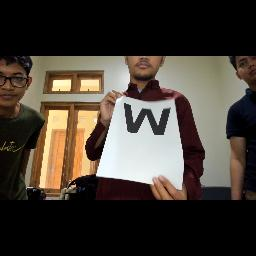w: (122, 99, 176, 139)
